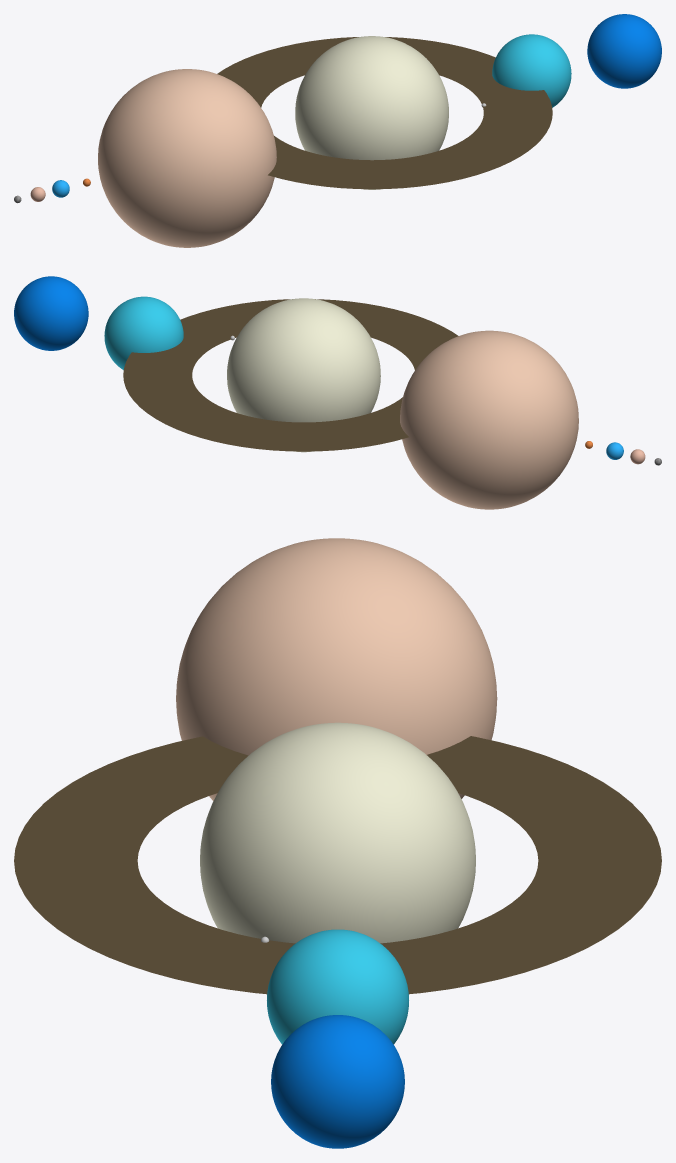
Rendered from Planets.fbx.
3 views of the same model, one above another, from view 1: azimuth 30°, elevation 25°; view 2: azimuth 150°, elevation 25°; view 3: azimuth 270°, elevation 25° (orthographic). The views are drawn at different scales.
Parts seen in each view (by area): view 1: JUPITER_ATMOSPHERE, SATURN_RING, SATURN_PLANET, NEPTUNE, URANUS; view 2: JUPITER_ATMOSPHERE, SATURN_RING, SATURN_PLANET, NEPTUNE, URANUS; view 3: SATURN_RING, JUPITER_ATMOSPHERE, SATURN_PLANET, NEPTUNE, URANUS.
Boxes of the visible parts, x1,y1,x2,y2 form: JUPITER_ATMOSPHERE: (98, 69, 276, 247); SATURN_RING: (217, 37, 552, 189); SATURN_PLANET: (295, 36, 448, 189); NEPTUNE: (587, 14, 661, 88); URANUS: (492, 34, 571, 107); JUPITER_ATMOSPHERE: (400, 330, 578, 509); SATURN_RING: (123, 299, 458, 451); SATURN_PLANET: (227, 298, 380, 452); NEPTUNE: (14, 276, 88, 350); URANUS: (104, 296, 183, 369); SATURN_RING: (14, 736, 661, 994); JUPITER_ATMOSPHERE: (176, 538, 497, 800); SATURN_PLANET: (200, 722, 475, 943); NEPTUNE: (271, 1015, 404, 1148); URANUS: (267, 929, 408, 1044).
Bounding box in the file's own units: 20920 × 5050 × 10187.
